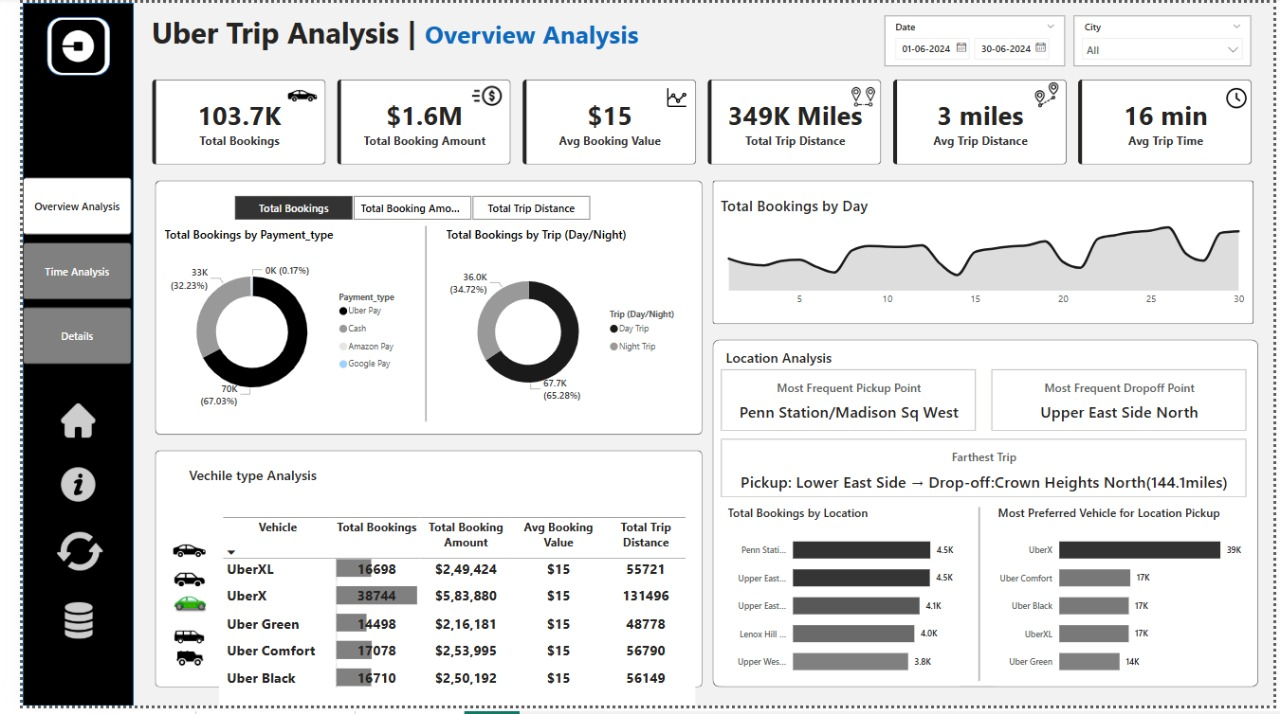

The page's visual inventory and layout, read from the dashboard file:
{"tool":"powerbi","page":{"name":"Overview Analysis","canvas":[1600,900],"ordinal":0},"visuals":[{"type":"shape","box":[170,226.7,700.3,325.9],"z":0},{"type":"shape","box":[0,0,141.7,900.7],"z":1000},{"type":"textbox","box":[139.7,8.1,672,81],"z":2000},{"type":"cardVisual","fields":{"Data":["Trip Details.Total Bookings","Trip Details.Total Booking Amount","Trip Details.Avg Booking Amount","Trip Details.Total Trip Distance","Trip Details.Avg Trip Distance","Trip Details.Avg Trip Time"]},"box":[159.9,93.1,1418.8,119.4],"z":3000},{"type":"image","box":[568.8,93.1,48.6,52.6],"z":4000},{"type":"image","box":[1032.3,99.2,87,40.5],"z":5000},{"type":"image","box":[1267,97.2,89.1,42.5],"z":6000},{"type":"image","box":[1528.1,103.2,48.6,36.4],"z":7000},{"type":"image","box":[813.7,101.2,46.6,38.5],"z":8000},{"type":"image","box":[327.9,93.1,60.7,52.6],"z":9000},{"type":"slicer","fields":{"Values":["Dynamic Measure.Dynamic Measure"]},"box":[244.9,240.9,504,44.5],"z":10000},{"type":"donutChart","fields":{"Y":["Trip Details.Total Bookings"],"Category":["Trip Details.Payment_type"]},"box":[176.1,285.4,319.8,251],"z":11000},{"type":"donutChart","fields":{"Y":["Trip Details.Total Bookings"],"Category":["Trip Details.Trip Type (Day/Night)"]},"box":[536.4,285.4,315.7,251],"z":12000},{"type":"shape","box":[170,572.8,700.3,303.6],"z":13000},{"type":"pivotTable","fields":{"Rows":["Trip Details.Vehicle"],"Values":["Trip Details.Total Bookings","Trip Details.Total Booking Amount","Trip Details.Avg Booking Value","Trip Details.Total Trip Distance Measure"]},"box":[251,653.8,609.2,246.9],"z":14000},{"type":"image","box":[176.9,674,72.9,56.7],"z":15000},{"type":"image","box":[176.9,785.3,72.9,52.6],"z":16000},{"type":"image","box":[182,712.5,62.7,50.6],"z":17000},{"type":"image","box":[183,752.9,60.7,32.4],"z":18000},{"type":"image","box":[179.9,817.7,66.8,44.5],"z":19000},{"type":"card","fields":{"Values":["Trip Details.title for grid"]},"box":[168,578.9,253,56.7],"z":20000},{"type":"shape","box":[882.5,226.7,692.2,184.2],"z":21000},{"type":"stackedAreaChart","fields":{"Category":["Calender Table.Date.Variation.Date Hierarchy.Day"],"Y":["Trip Details.Total Bookings"]},"box":[888.6,246.9,682.1,149.8],"z":22000},{"type":"shape","box":[882.5,431.1,698.3,445.3],"z":23000},{"type":"cardVisual","fields":{"Data":["Trip Details.Most Frequent Pickup Point","Trip Details.Most Frequent Dropoff Point"]},"box":[888.6,463.5,682.1,89.1],"z":24000},{"type":"cardVisual","fields":{"Data":["Trip Details.Farthest Trip"]},"box":[888.6,552.6,682.1,85],"z":25000},{"type":"barChart","fields":{"Category":["Location Table.Location"],"Y":["Trip Details.Total Bookings"]},"box":[896.6,641.6,301.6,232.8],"z":26000},{"type":"barChart","title":"Most Preferred Vehicle for Location Pickup","fields":{"Category":["Trip Details.Vehicle"],"Y":["CountNonNull(Trip Details.PULocationID)"]},"box":[1242.8,641.6,329.9,232.8],"z":27000},{"type":"shape","box":[479.7,285.4,70.8,251],"z":28000},{"type":"shape","box":[1188.1,645.7,70.8,222.6],"z":29000},{"type":"card","fields":{"Values":["Trip Details.Title for Location"]},"box":[888.6,429.1,157.9,52.6],"z":30000},{"type":"slicer","fields":{"Values":["Calender Table.Date"]},"box":[1103.1,16.2,230.7,64.8],"z":31000},{"type":"slicer","fields":{"Values":["Location Table.City"]},"box":[1344,16.2,226.7,64.8],"z":32000},{"type":"shape","box":[30.4,18.2,81,74.9],"z":33000},{"type":"image","box":[30.4,20.2,81,72.9],"z":34000},{"type":"pageNavigator","box":[0,224.7,139.7,240.9],"z":35000},{"type":"image","box":[38.5,508,64.8,54.6],"z":35001},{"type":"image","box":[38.5,589,64.8,54.6],"z":35002},{"type":"image","box":[36.4,667.9,72.9,68.8],"z":35003},{"type":"image","box":[30.4,763.1,81,56.7],"z":35004}]}

Visuals, with their boxes on the page's 1600x900 design canvas (x1, y1, x2, y2). These are canvas units, not pixel positions in the 1280x714 screenshot, which may show the page scaled, cropped or inside an application window:
shape: pyautogui.locateOnScreen(170, 227, 870, 553)
shape: pyautogui.locateOnScreen(0, 0, 142, 901)
textbox: pyautogui.locateOnScreen(140, 8, 812, 89)
cardVisual - Trip Details.Total Bookings x Trip Details.Total Booking Amount: pyautogui.locateOnScreen(160, 93, 1579, 212)
image: pyautogui.locateOnScreen(569, 93, 617, 146)
image: pyautogui.locateOnScreen(1032, 99, 1119, 140)
image: pyautogui.locateOnScreen(1267, 97, 1356, 140)
image: pyautogui.locateOnScreen(1528, 103, 1577, 140)
image: pyautogui.locateOnScreen(814, 101, 860, 140)
image: pyautogui.locateOnScreen(328, 93, 389, 146)
slicer - Dynamic Measure.Dynamic Measure: pyautogui.locateOnScreen(245, 241, 749, 285)
donutChart - Trip Details.Total Bookings x Trip Details.Payment_type: pyautogui.locateOnScreen(176, 285, 496, 536)
donutChart - Trip Details.Total Bookings x Trip Details.Trip Type (Day/Night): pyautogui.locateOnScreen(536, 285, 852, 536)
shape: pyautogui.locateOnScreen(170, 573, 870, 876)
pivotTable - Trip Details.Vehicle x Trip Details.Total Bookings: pyautogui.locateOnScreen(251, 654, 860, 901)
image: pyautogui.locateOnScreen(177, 674, 250, 731)
image: pyautogui.locateOnScreen(177, 785, 250, 838)
image: pyautogui.locateOnScreen(182, 712, 245, 763)
image: pyautogui.locateOnScreen(183, 753, 244, 785)
image: pyautogui.locateOnScreen(180, 818, 247, 862)
card - Trip Details.title for grid: pyautogui.locateOnScreen(168, 579, 421, 636)
shape: pyautogui.locateOnScreen(882, 227, 1575, 411)
stackedAreaChart - Calender Table.Date.Variation.Date Hierarchy.Day x Trip Details.Total Bookings: pyautogui.locateOnScreen(889, 247, 1571, 397)
shape: pyautogui.locateOnScreen(882, 431, 1581, 876)
cardVisual - Trip Details.Most Frequent Pickup Point x Trip Details.Most Frequent Dropoff Point: pyautogui.locateOnScreen(889, 464, 1571, 553)
cardVisual - Trip Details.Farthest Trip: pyautogui.locateOnScreen(889, 553, 1571, 638)
barChart - Location Table.Location x Trip Details.Total Bookings: pyautogui.locateOnScreen(897, 642, 1198, 874)
"Most Preferred Vehicle for Location Pickup" barChart: pyautogui.locateOnScreen(1243, 642, 1573, 874)
shape: pyautogui.locateOnScreen(480, 285, 550, 536)
shape: pyautogui.locateOnScreen(1188, 646, 1259, 868)
card - Trip Details.Title for Location: pyautogui.locateOnScreen(889, 429, 1046, 482)
slicer - Calender Table.Date: pyautogui.locateOnScreen(1103, 16, 1334, 81)
slicer - Location Table.City: pyautogui.locateOnScreen(1344, 16, 1571, 81)
shape: pyautogui.locateOnScreen(30, 18, 111, 93)
image: pyautogui.locateOnScreen(30, 20, 111, 93)
pageNavigator: pyautogui.locateOnScreen(0, 225, 140, 466)
image: pyautogui.locateOnScreen(38, 508, 103, 563)
image: pyautogui.locateOnScreen(38, 589, 103, 644)
image: pyautogui.locateOnScreen(36, 668, 109, 737)
image: pyautogui.locateOnScreen(30, 763, 111, 820)
